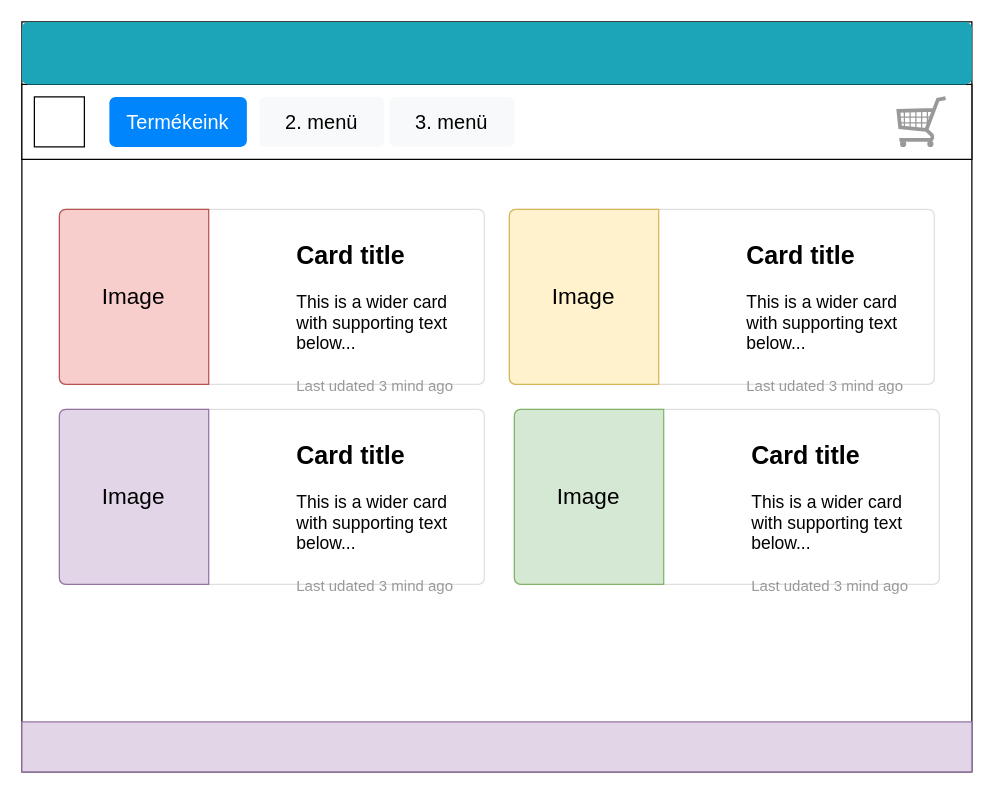
The diagram is 994 pixels wide and 794 high, and some of its shapes have lost their labels. Here are the shapes that lost their labels. From the top down, the centre of each, then its label:
At (x=496, y=52): "LOGO - CÉGNÉV".
At (x=58, y=121): "LOGO".
At (x=496, y=746): "FOOTER".
